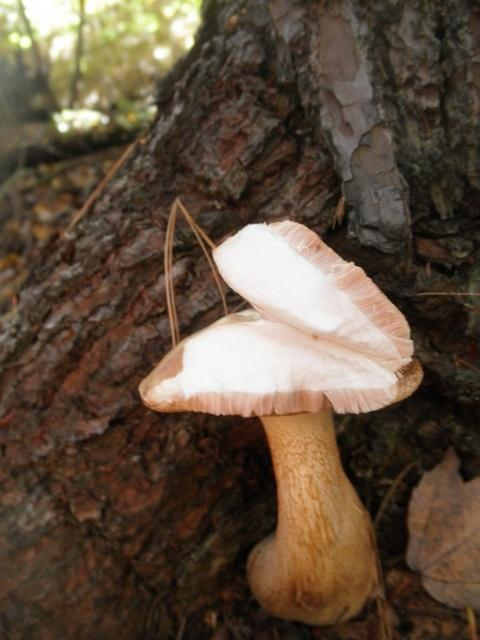Non-edible Mushroom: (136, 217, 424, 627)
